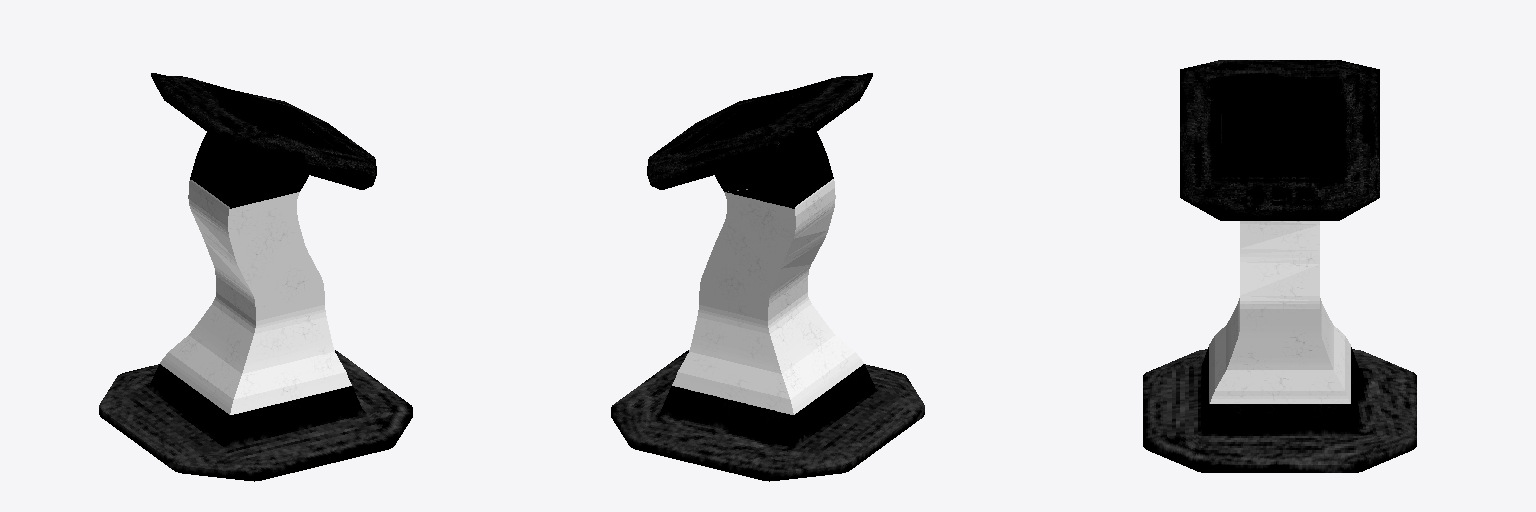
3 renders of one model, left to right at view 1: azimuth 30°, elevation 25°; view 2: azimuth 150°, elevation 25°; view 3: azimuth 270°, elevation 25°, orthographic.
Visible parts, largest first — view 1: Konsola_Cube.053; view 2: Konsola_Cube.053; view 3: Konsola_Cube.053.
Boxes of the visible parts, x1=… form: Konsola_Cube.053: x1=99, y1=73, x2=412, y2=481; Konsola_Cube.053: x1=611, y1=73, x2=924, y2=481; Konsola_Cube.053: x1=1143, y1=60, x2=1416, y2=472.
Bounding box in the file's own units: 2.23 × 2.96 × 2.23.
Materials: 1 (1 with a texture image).